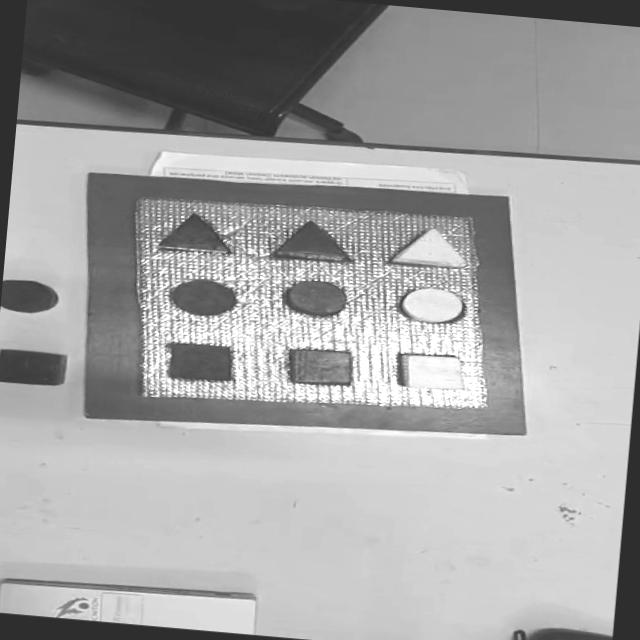bcircle: (0, 346, 68, 388), (0, 276, 62, 316)
btriangle: (154, 210, 236, 258)
mtcircle: (168, 276, 242, 320)
mtcube: (164, 339, 236, 384)
rcircle: (284, 279, 348, 318)
rcube: (284, 345, 356, 389)
rtriangle: (272, 217, 356, 265)
wb: (118, 188, 506, 426)
ycircle: (397, 284, 466, 326)
ycube: (394, 351, 471, 394)
ytriangle: (389, 224, 471, 272)
